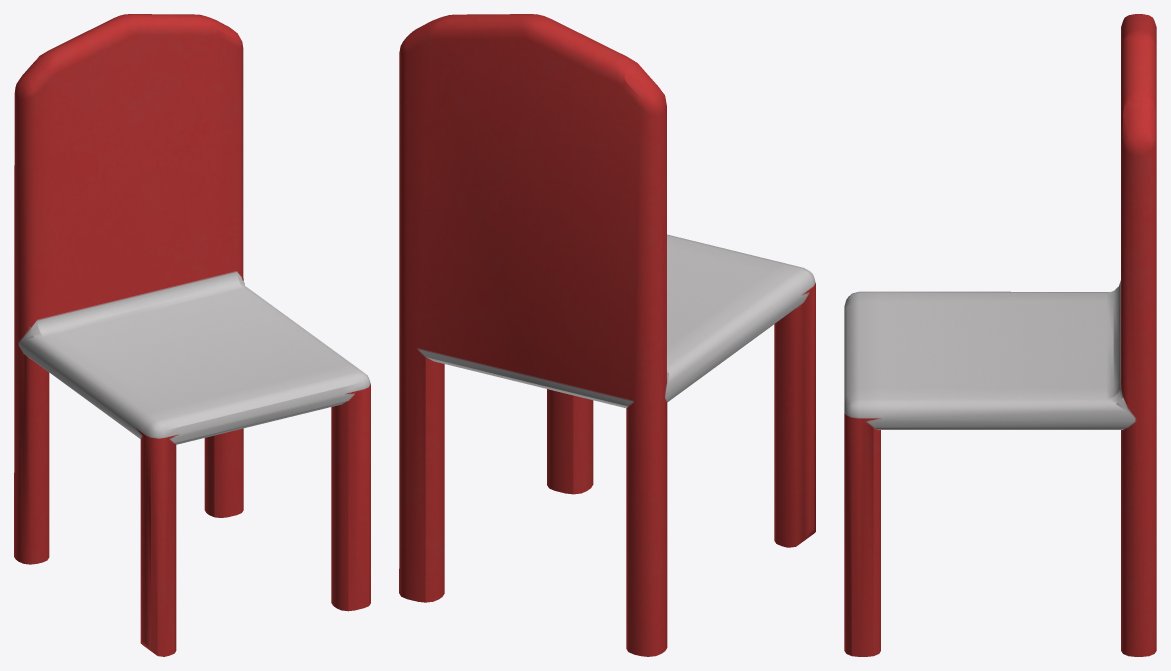
File: chair.fbx
3 views of the same model, side by side, from view 1: azimuth 30°, elevation 25°; view 2: azimuth 150°, elevation 25°; view 3: azimuth 270°, elevation 25° (orthographic). The views are drawn at different scales.
Visible parts, largest first — view 1: chair1; view 2: chair1; view 3: chair1.
Part boxes in pixels (box(x1,y1,x2,y2)): chair1: box(14, 14, 370, 656); chair1: box(399, 14, 815, 656); chair1: box(844, 14, 1156, 656).
Bounding box in the file's own units: 29.17 × 64.54 × 32.5.
Materials: 1 (1 with a texture image).
